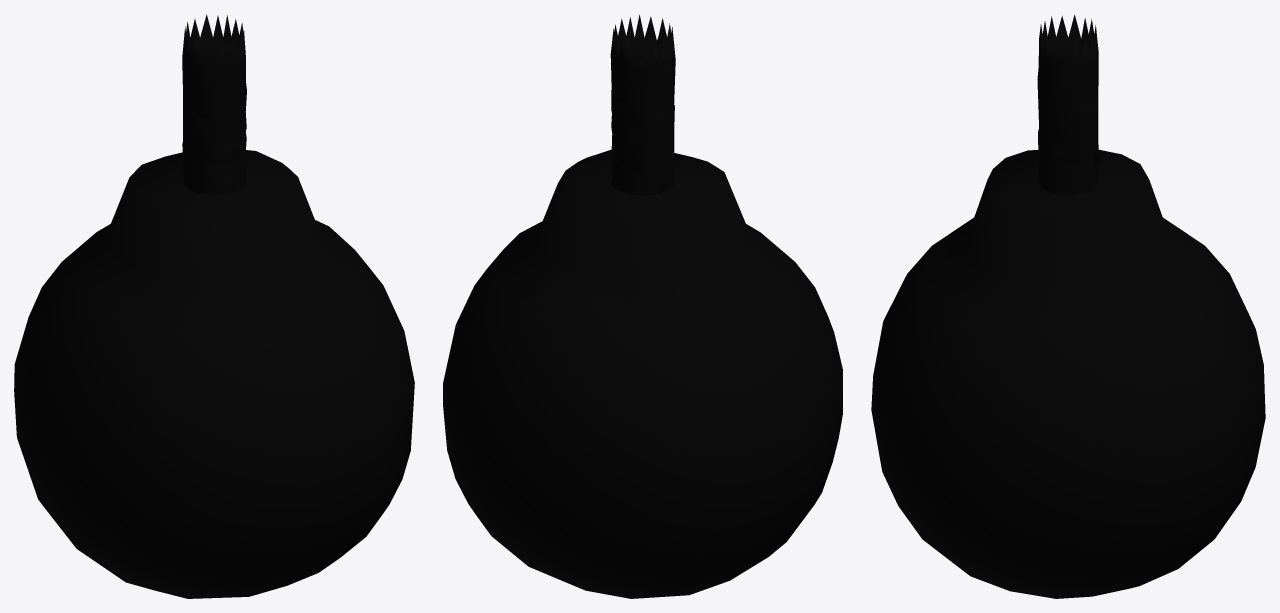
The model's file is Bomb.obj.
3 renders of one model, left to right at view 1: azimuth 30°, elevation 25°; view 2: azimuth 150°, elevation 25°; view 3: azimuth 270°, elevation 25°, orthographic.
Visible parts, largest first — view 1: Cube.012; view 2: Cube.012; view 3: Cube.012.
Part boxes in pixels (bbox=[...]): Cube.012: bbox=[14, 14, 414, 598]; Cube.012: bbox=[443, 15, 842, 598]; Cube.012: bbox=[871, 14, 1265, 598].
Size of the model in its own units: 0.5817 by 0.8964 by 0.5817.
